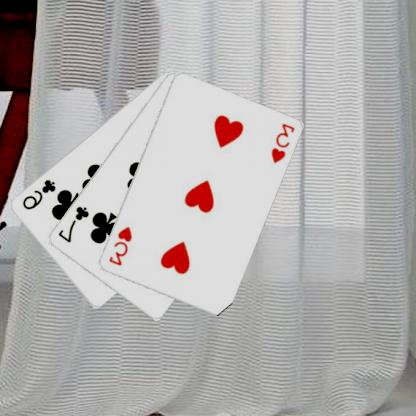3H: (107, 223, 135, 268), (270, 121, 298, 165)
7C: (56, 203, 92, 244)
9C: (21, 176, 59, 211)
